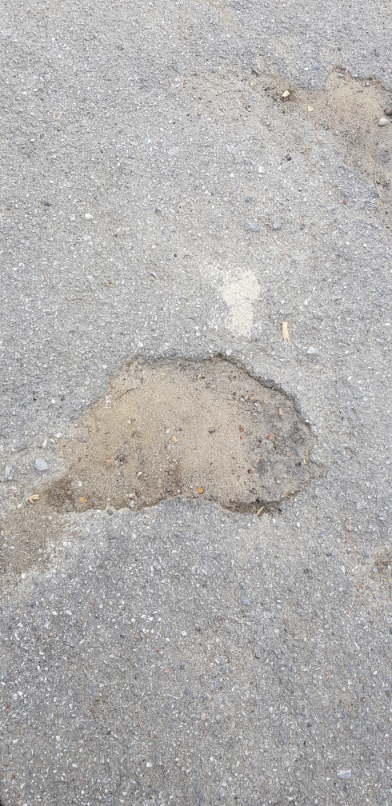pothole: (40, 343, 326, 522)
